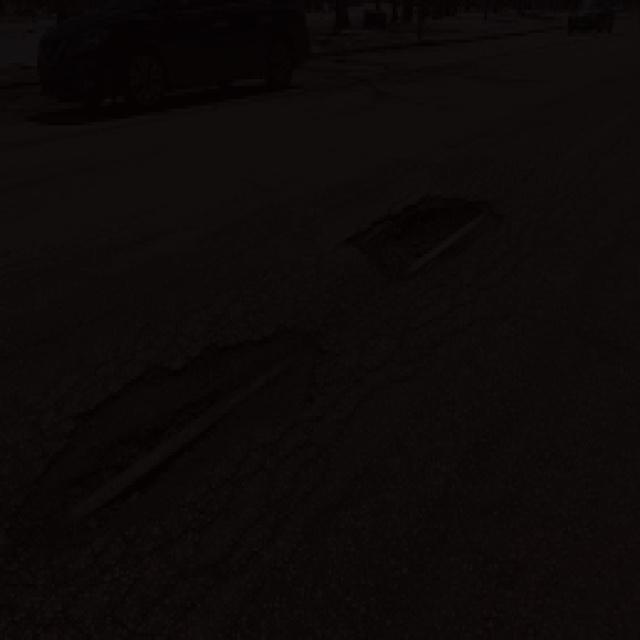Pothole: (14, 308, 352, 536), (340, 187, 510, 280)
